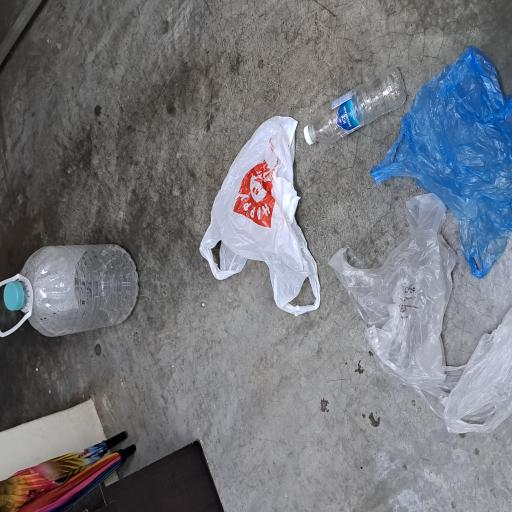plastic bag: (143, 264, 301, 430), (58, 445, 230, 512)
plastic bottle: (130, 36, 203, 185), (271, 415, 336, 512)
plastic bottle cap: (150, 4, 175, 34), (274, 402, 290, 418)
